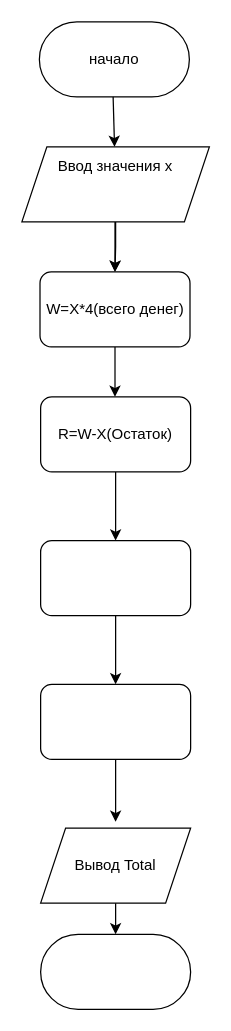
The diagram is 231 pixels wide and 1031 high, and some of its shapes have lost their labels. Here are the shapes that lost their labels. From the top down, the centre of each, then its label:
the point at 115,577: S=R/3(Сбережения в неделю)
the point at 115,721: Total=S*52(накоплено за год)
the point at 115,971: Конец
